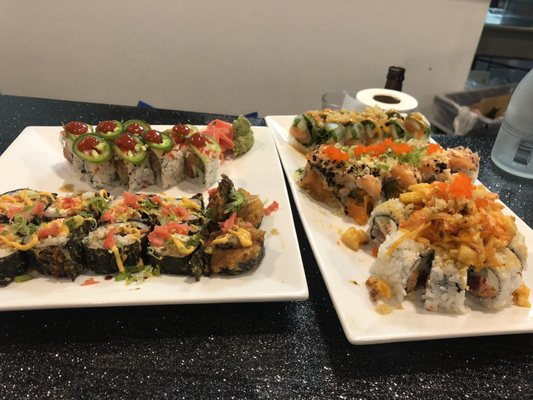pizza: (490, 66, 533, 181)
